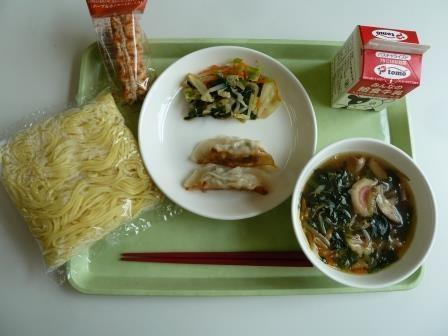Milk: (330, 22, 427, 115)
pasta: (5, 111, 162, 261)
pastry: (87, 3, 157, 104)
salad with sauce: (171, 54, 280, 119)
tushpara-fried: (186, 131, 272, 194)
vegetable soup: (299, 140, 432, 283)
